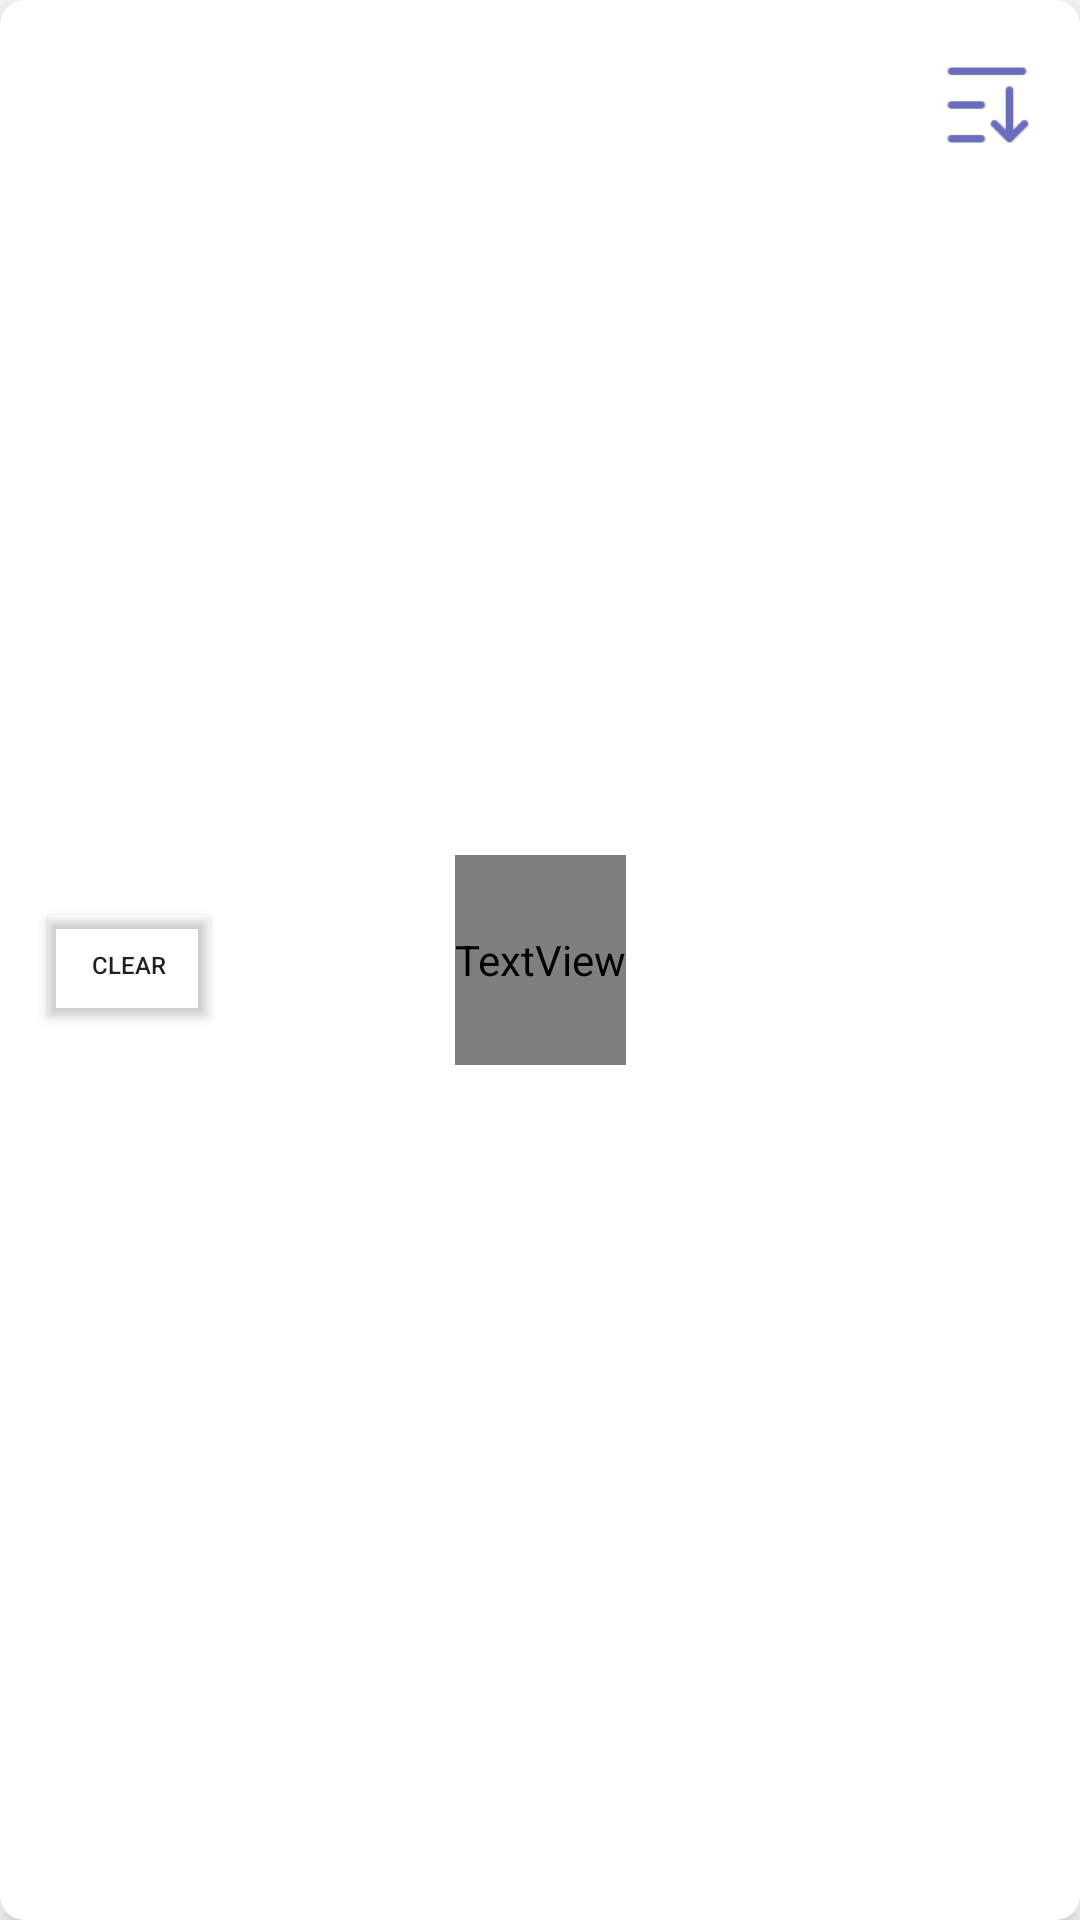

Where icons sit on this 1080px x 1920px app screen, as (x1, y1, x2, y2):
arrow down: (947, 67, 1029, 143)
